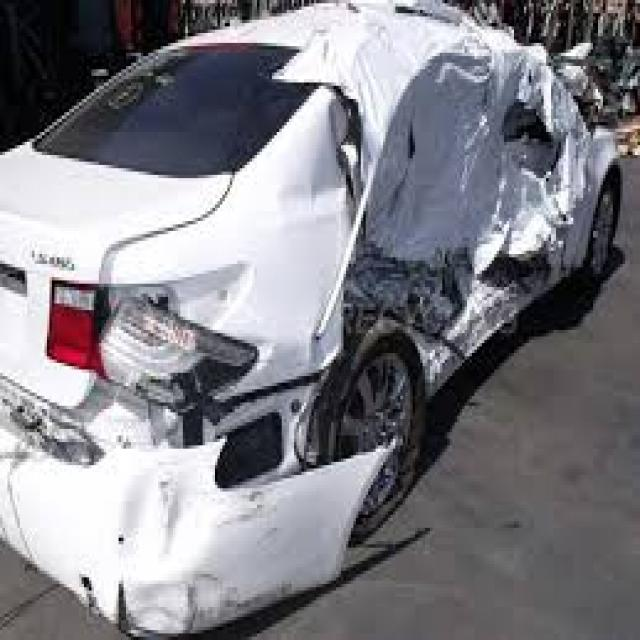severe: (132, 6, 621, 640)
